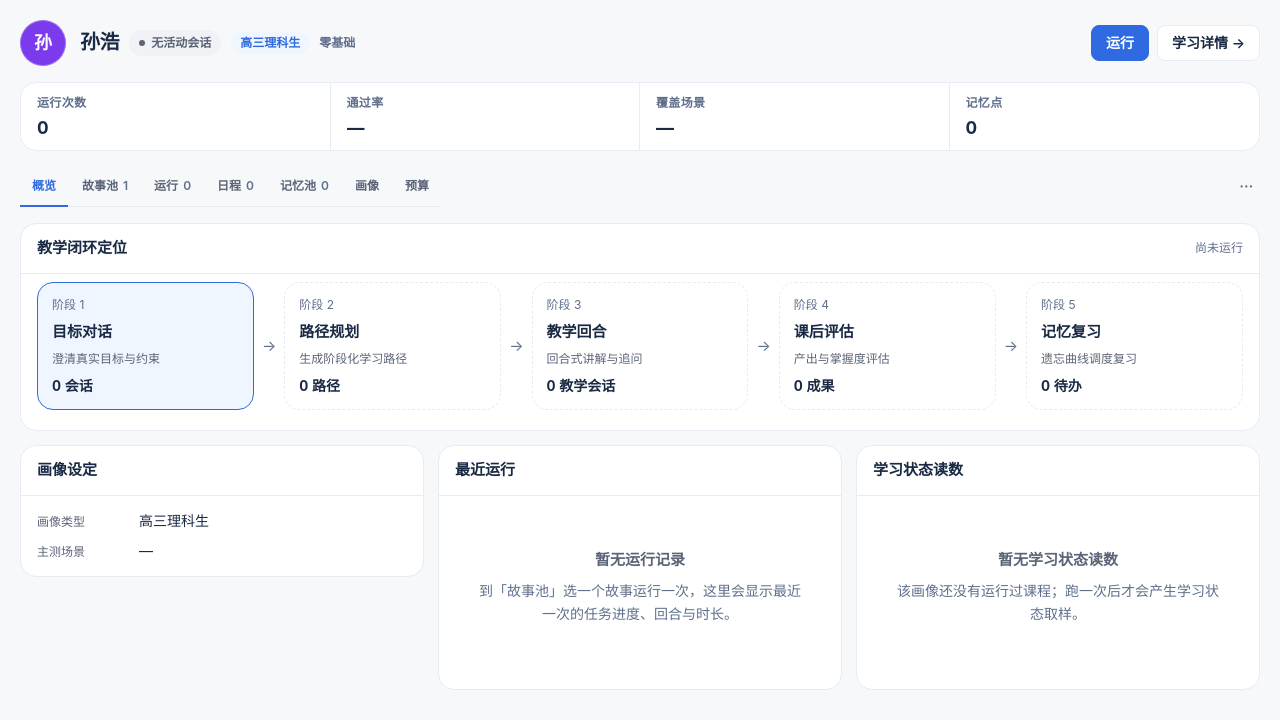
Test case: 画像页 · 账号级记忆入口 › 记忆池卡头有账号级入口（同一落点）
 切到记忆池页签
Click the tab "记忆池0": (304,187) [268,167,341,207]
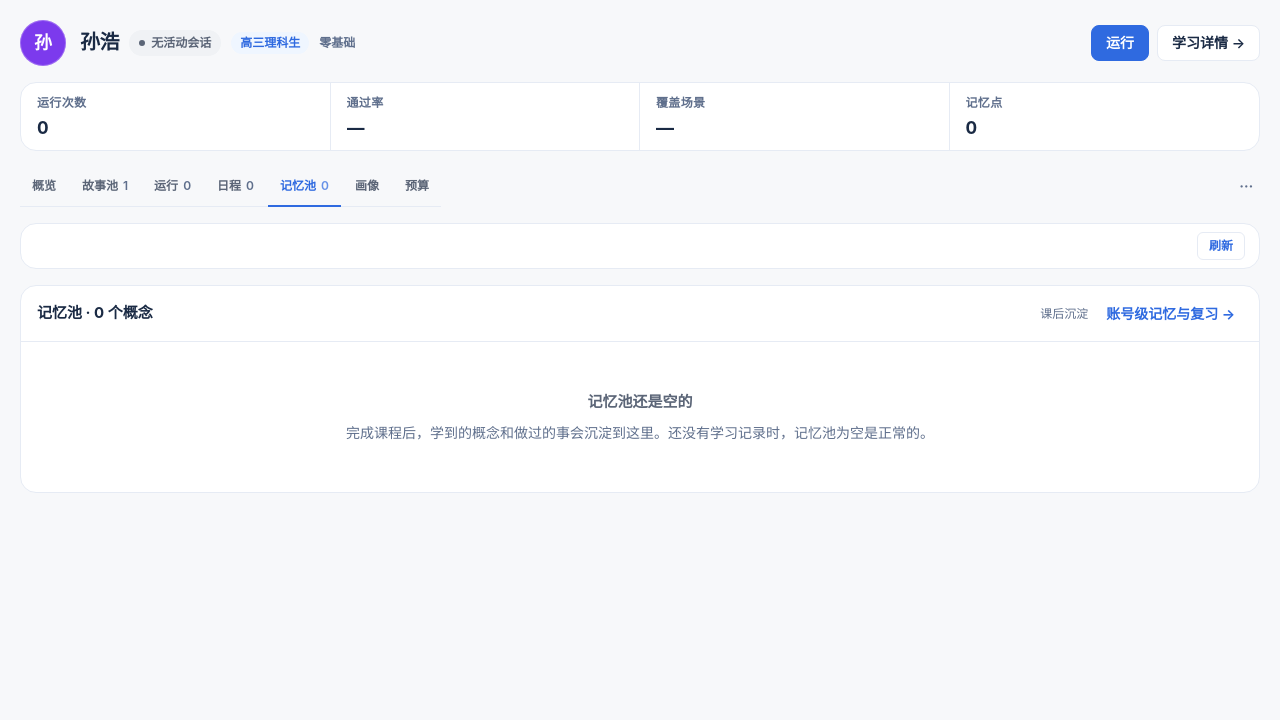
Result: the button with class "mk-link" shows "账号级记忆与复习" at [1098,298,1243,329]
